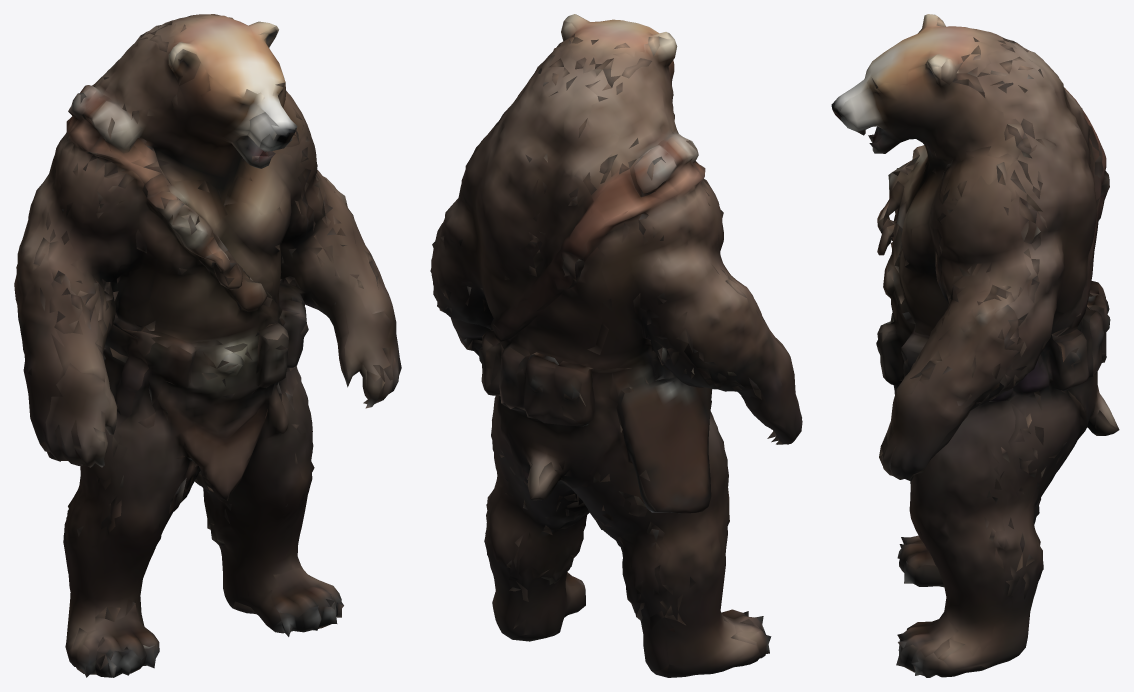
The model's file is Debris Bear_final.glb.
The picture shows the model from 3 angles, left to right: view 1: azimuth 30°, elevation 25°; view 2: azimuth 150°, elevation 25°; view 3: azimuth 270°, elevation 25°; orthographic projection. The views are drawn at different scales.
Parts seen in each view (by area): view 1: Mesh1.0; view 2: Mesh1.0; view 3: Mesh1.0.
Part boxes in pixels (<box>): Mesh1.0: <box>14,14,401,677</box>; Mesh1.0: <box>430,14,802,677</box>; Mesh1.0: <box>831,14,1119,677</box>.
Size of the model in its own units: 1.09 by 1.8 by 0.7924.
Materials: 1 (1 with a texture image).
